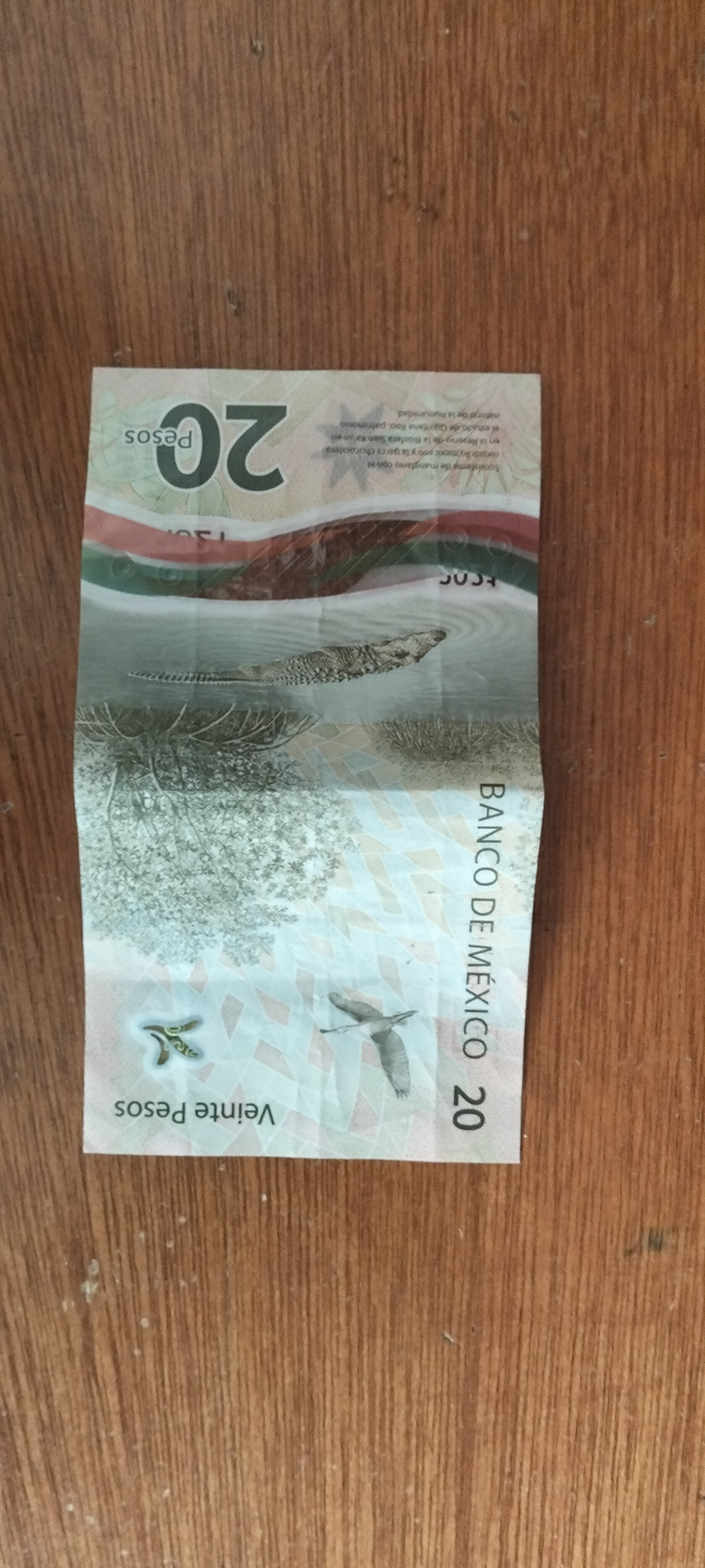billetes: (64, 339, 563, 1185)
